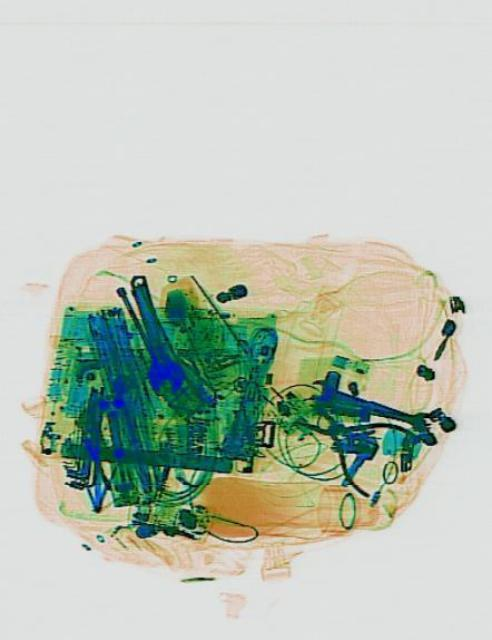Wrench: (116, 266, 185, 400), (305, 372, 428, 436)
